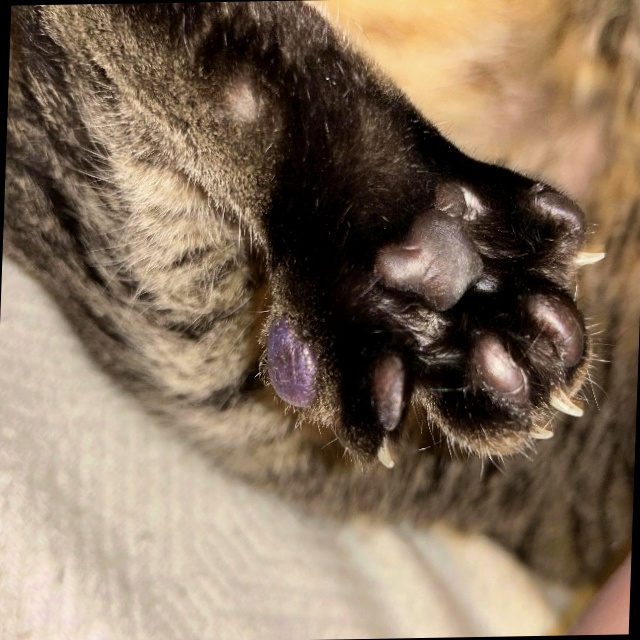lump_and_bump: (263, 314, 328, 418)
